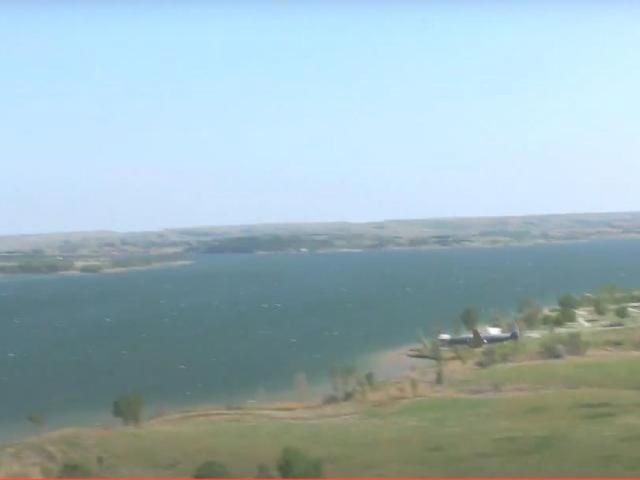iha: (433, 324, 522, 353)
